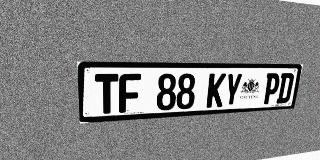8: (156, 73, 177, 111), (176, 73, 197, 109)
D: (276, 73, 295, 103)
F: (119, 74, 141, 113)
K: (206, 73, 226, 108)
P: (262, 73, 281, 104)
T: (95, 74, 118, 114)
Y: (223, 73, 243, 107)
